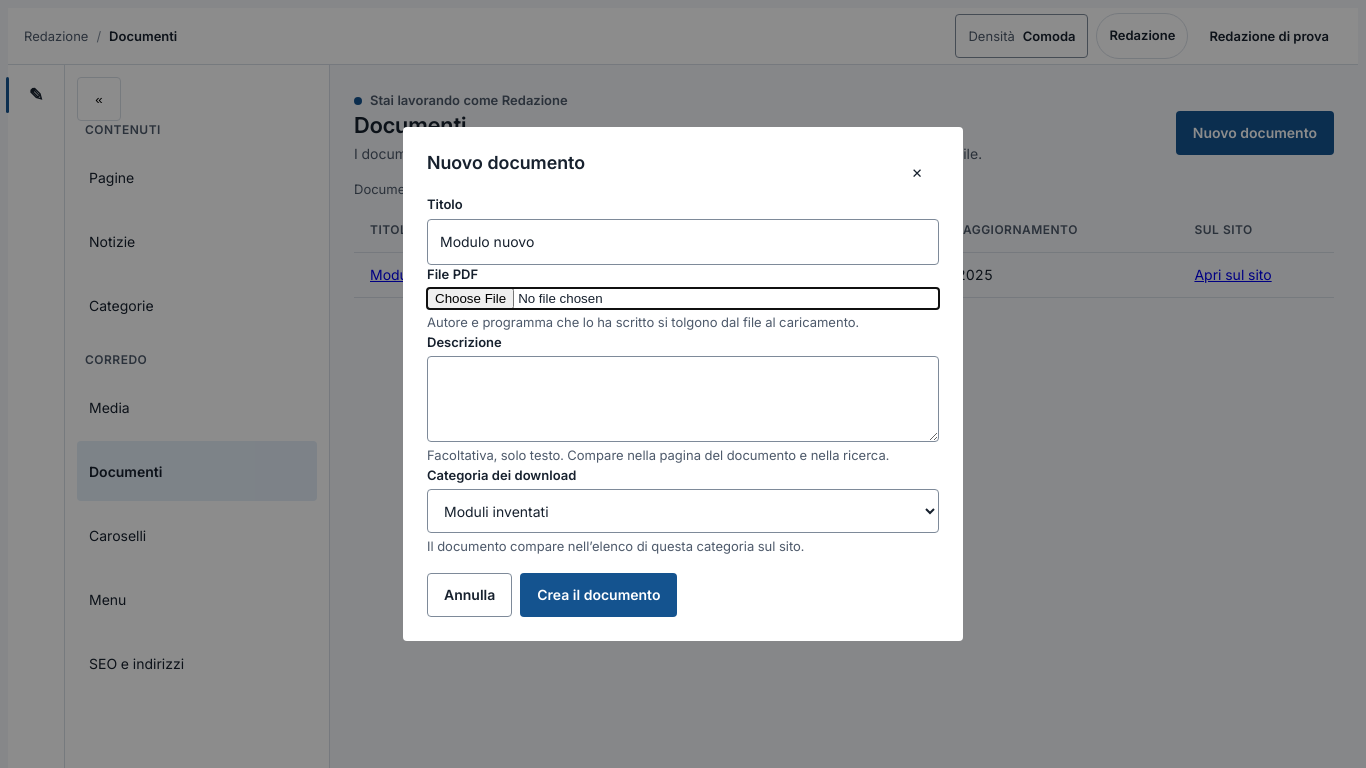
Test case: «Nuovo documento» nell’elenco › se la creazione è rifiutata il file appena caricato si toglie e il rifiuto si legge
The width and height of the screenshot is (1366, 768).
Earlier steps of the test are not shown.
Click the button "Crea il documento" at (599, 595), box [520,573,678,617]
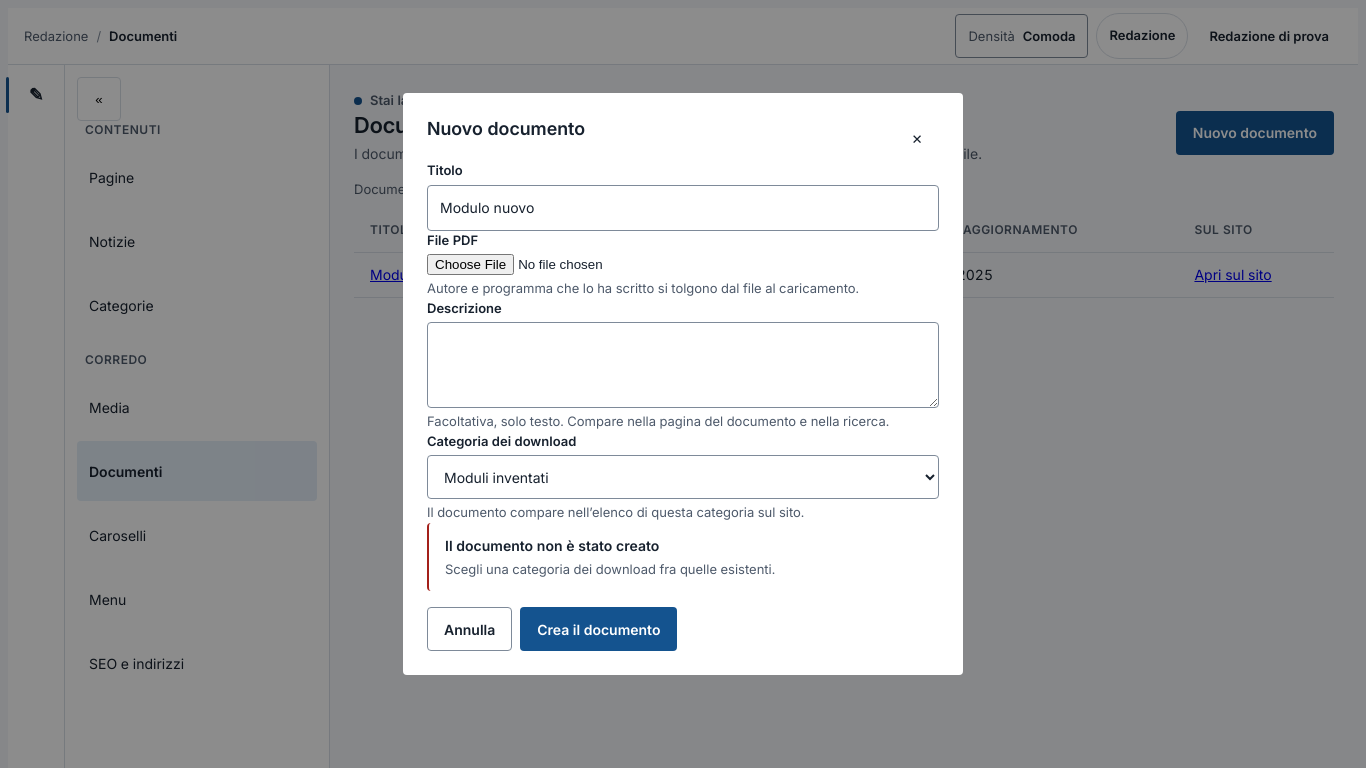
Check: the text "Scegli una categoria dei download fra quelle esistenti." is shown, box [445,560,775,576]
